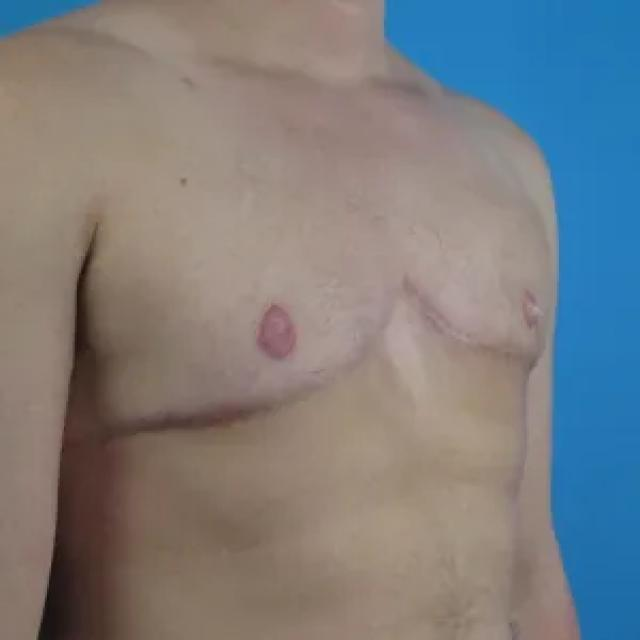Seno herido: (63, 145, 397, 478), (404, 144, 564, 400)
